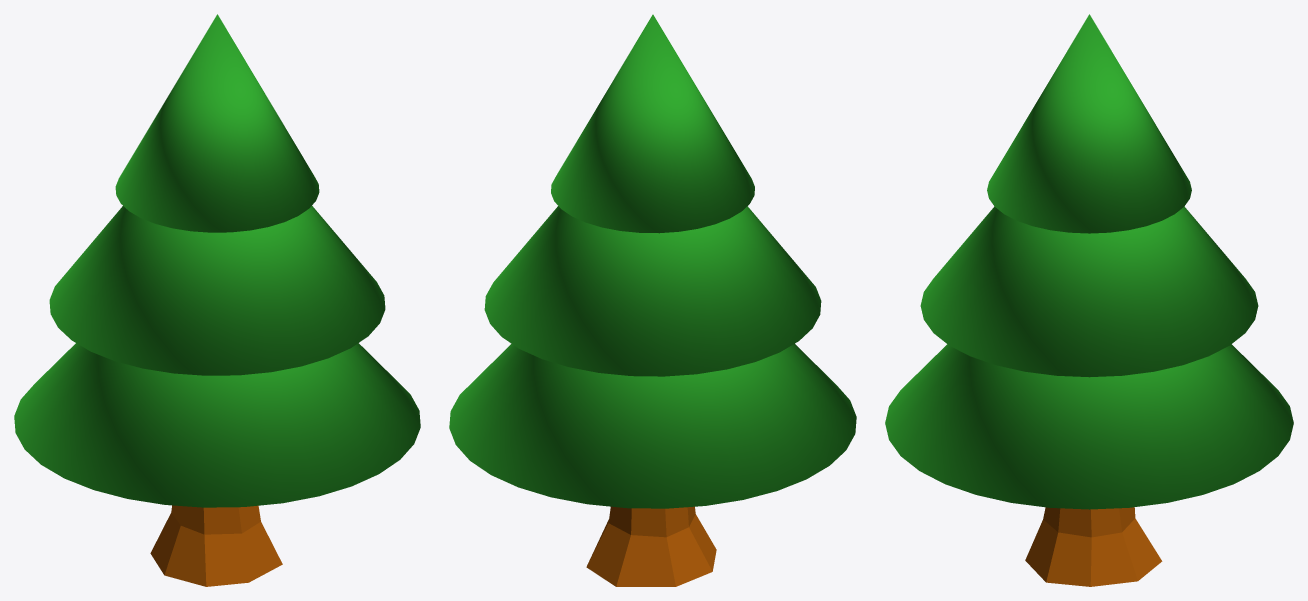
File: Tree_Cone2.fbx
The picture shows the model from 3 angles, left to right: view 1: azimuth 30°, elevation 25°; view 2: azimuth 150°, elevation 25°; view 3: azimuth 270°, elevation 25°; orthographic projection.
Visible parts, largest first — view 1: Tree_Cone2; view 2: Tree_Cone2; view 3: Tree_Cone2.
Boxes of the visible parts, x1=… form: Tree_Cone2: x1=14, y1=14, x2=420, y2=586; Tree_Cone2: x1=449, y1=14, x2=856, y2=586; Tree_Cone2: x1=885, y1=14, x2=1293, y2=586.
Size of the model in its own units: 5.13 by 5.13 by 7.58.
